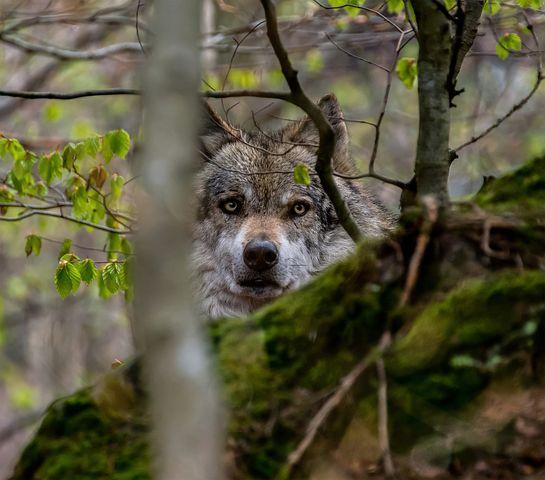fox: (183, 90, 397, 327)
